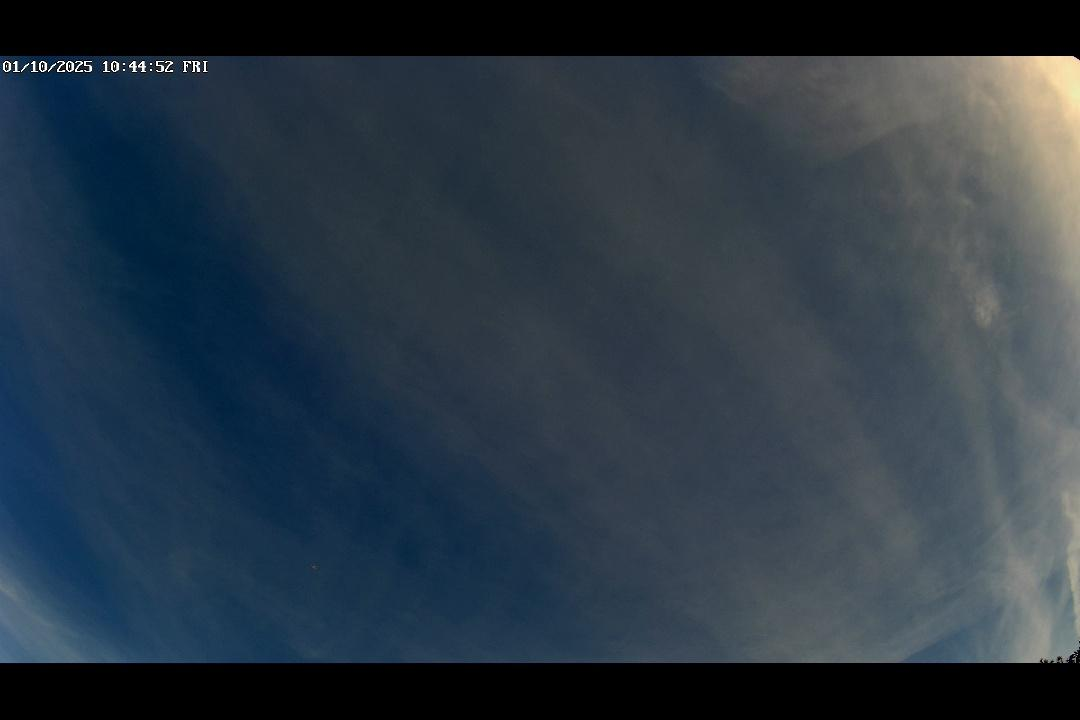Plane: (310, 561, 320, 572)
